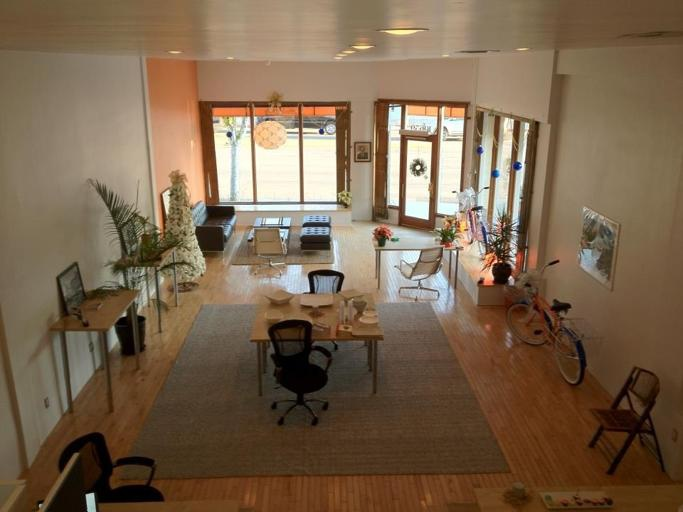non-vehicle: (506, 256, 586, 386), (451, 184, 490, 260)
